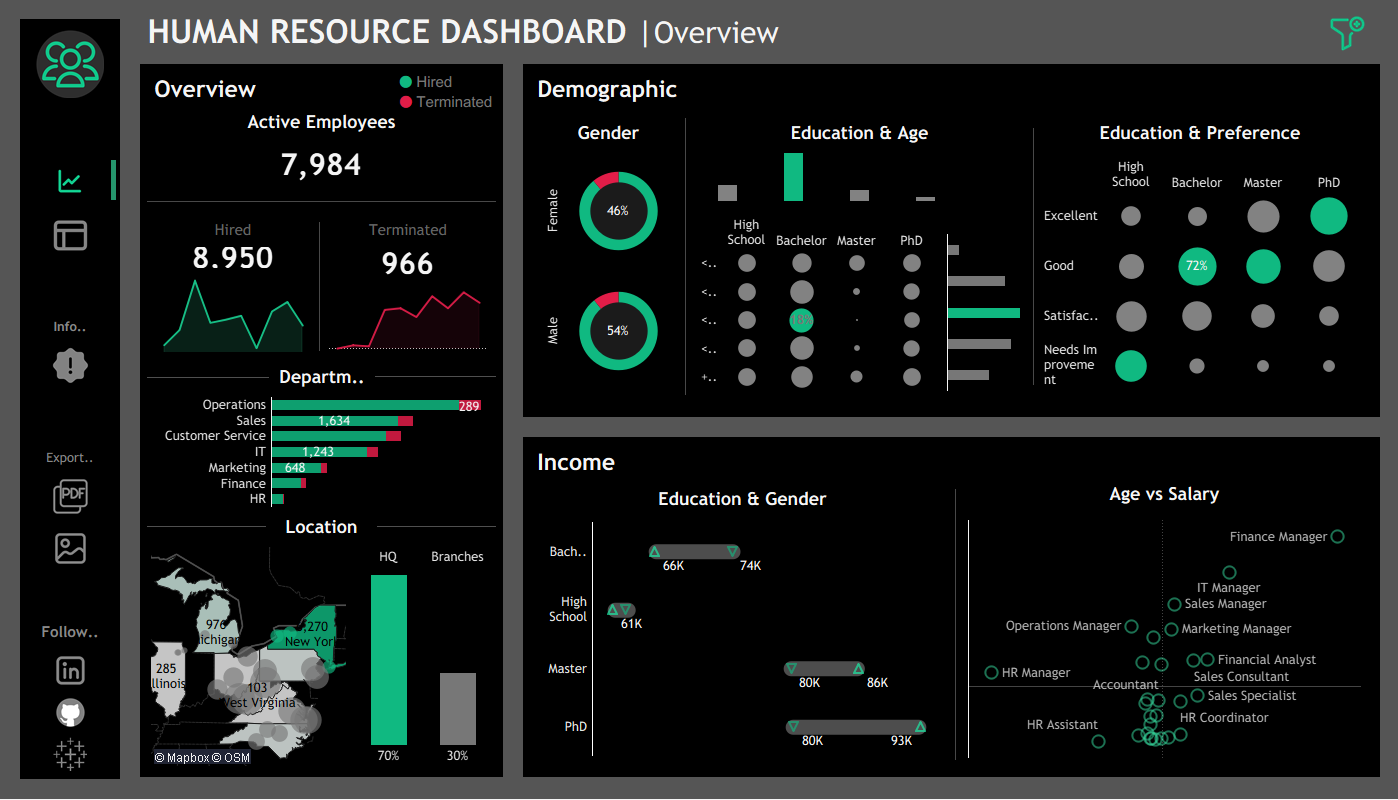

The dashboard page shown, as its layout file describes it:
{"tool":"tableau","page":{"name":"Hr dashboard","canvas":[1400,800],"ordinal":0},"visuals":[{"type":"blank","box":[138,0,1246,240]},{"type":"text","box":[140,0,666,65]},{"type":"blank","box":[806,0,574,65]},{"type":"filter","title":"gender wise average salary with education","param":"[federated.0e98jjm1nf74hf10xqbcz1m3fuau].[none:Gender:nk]","box":[731,10,148,49]},{"type":"filter","title":"gender wise average salary with education","param":"[federated.0e98jjm1nf74hf10xqbcz1m3fuau].[none:Calculation_797700122308091904:nk","box":[879,10,148,49]},{"type":"filter","title":"gender wise average salary with education","param":"[federated.0e98jjm1nf74hf10xqbcz1m3fuau].[none:Calculation_324540685735133186:nk","box":[1027,10,148,49]},{"type":"filter","title":"gender wise average salary with education","param":"[federated.0e98jjm1nf74hf10xqbcz1m3fuau].[yr:Hiredate:ok]","box":[1175,10,147,49]},{"type":"dashboard-object","box":[1321,10,50,50]},{"type":"image","param":"Image/hr icon 2.png","box":[24,24,92,82]},{"type":"text","box":[147,72,349,31]},{"type":"text","box":[530,72,843,31]},{"type":"text","box":[396,74,100,41]},{"type":"text","box":[147,103,349,32]},{"type":"blank","box":[24,106,92,55]},{"type":"text","box":[537,115,143,26]},{"type":"blank","box":[685,115,1,277]},{"type":"text","box":[691,115,337,26]},{"type":"blank","box":[1033,115,1,277]},{"type":"text","box":[1034,115,332,26]},{"type":"worksheet","title":"Ban of Active","mark":"Automatic","box":[147,135,349,53]},{"type":"worksheet","title":"gender wise count","mark":"Circle","rows":["Gender"],"cols":["Calculation_324540685763403780","Calculation_324540685763403780"],"box":[537,141,143,251]},{"type":"worksheet","title":"education viese count","mark":"Bar","rows":["Calculation_1074108547685941248"],"cols":["Education Level"],"box":[691,141,337,58]},{"type":"worksheet","title":"education wise rating","mark":"Circle","rows":["Performance Rating"],"cols":["Education Level"],"box":[1034,141,332,251]},{"type":"dashboard-object","box":[24,161,87,40]},{"type":"blank","box":[111,161,5,40]},{"type":"blank","box":[147,188,349,21]},{"type":"worksheet","title":"age wise education ","mark":"Circle","rows":["Calculation_324540685767745542"],"cols":["Education Level"],"box":[691,199,252,193]},{"type":"worksheet","title":"age wise grouping","mark":"Bar","rows":["Calculation_324540685767745542"],"cols":["Calculation_1074108547685941248"],"box":[943,199,85,193]},{"type":"blank","box":[24,201,92,15]},{"type":"blank","box":[319,209,1,149]},{"type":"text","box":[152,214,162,22]},{"type":"text","box":[325,214,166,22]},{"type":"dashboard-object","box":[24,216,92,40]},{"type":"worksheet","title":"Ban of hired","mark":"Automatic","box":[152,236,162,29]},{"type":"worksheet","title":"Ban of terminated","mark":"Automatic","box":[325,236,166,41]},{"type":"text","box":[138,240,1246,315]},{"type":"blank","box":[24,256,92,55]},{"type":"worksheet","title":"total hire by date","mark":"Automatic","rows":["Calculation_1074108547685941248","Calculation_1074108547685941248"],"cols":["Hiredate"],"box":[152,265,162,88]},{"type":"worksheet","title":"total terminated by date","mark":"Automatic","rows":["Calculation_1074108547687088130","Calculation_1074108547687088130"],"cols":["Termdate"],"box":[325,277,166,76]},{"type":"text","box":[24,311,92,34]},{"type":"dashboard-object","box":[24,345,92,42]},{"type":"blank","box":[147,358,122,32]},{"type":"text","box":[269,358,106,32]},{"type":"blank","box":[375,358,121,32]},{"type":"blank","box":[24,387,92,55]},{"type":"worksheet","title":"employee by department","mark":"Bar","rows":["Department"],"cols":["Calculation_1074108547685941248"],"box":[147,390,349,122]},{"type":"text","box":[24,442,92,34]},{"type":"text","box":[530,445,843,31]},{"type":"dashboard-object","box":[24,476,92,42]},{"type":"blank","box":[955,476,1,291]},{"type":"text","box":[956,476,417,26]},{"type":"text","box":[535,481,415,26]},{"type":"worksheet","title":"age vs salary","mark":"Shape","rows":["Salary"],"cols":["Calculation_324540685766361093"],"box":[956,502,417,265]},{"type":"worksheet","title":"gender wise average salary with education","mark":"Line","rows":["Education Level"],"cols":["Salary","Salary"],"box":[535,507,415,255]},{"type":"blank","box":[147,512,120.3,32]},{"type":"text","box":[267.3,512,108.3,32]},{"type":"blank","box":[375.7,512,120.3,32]},{"type":"blank","box":[24,518,92,10]},{"type":"dashboard-object","box":[24,528,92,42]},{"type":"worksheet","title":"employee count by state and city","mark":"Automatic","box":[147,544,203,227]},{"type":"worksheet","title":"total employee by department","mark":"Bar","rows":["Calculation_1074108547685941248"],"cols":["Calculation_324540685735133186","Calculation1"],"box":[350,544,146,227]},{"type":"blank","box":[138,555,1246,240]},{"type":"blank","box":[24,570,92,45]},{"type":"text","box":[24,615,92,35]},{"type":"image","param":"Image/linkedin-svgrepo-com.png","box":[24,650,92,42]},{"type":"image","param":"Image/github-svgrepo-com.png","box":[24,692,92,42]},{"type":"image","param":"Image/tableau-svgrepo-com.png","box":[24,734,92,42]}]}

Visuals, with their boxes on the page's 1400x800 design canvas (x1, y1, x2, y2). These are canvas units, not pixel positions in the 1398x800 screenshot, which may show the page scaled, cropped or inside an application window:
blank: <bbox>138, 0, 1384, 240</bbox>
text: <bbox>140, 0, 806, 65</bbox>
blank: <bbox>806, 0, 1380, 65</bbox>
"gender wise average salary with education" filter: <bbox>731, 10, 879, 59</bbox>
"gender wise average salary with education" filter: <bbox>879, 10, 1027, 59</bbox>
"gender wise average salary with education" filter: <bbox>1027, 10, 1175, 59</bbox>
"gender wise average salary with education" filter: <bbox>1175, 10, 1322, 59</bbox>
dashboard-object: <bbox>1321, 10, 1371, 60</bbox>
image: <bbox>24, 24, 116, 106</bbox>
text: <bbox>147, 72, 496, 103</bbox>
text: <bbox>530, 72, 1373, 103</bbox>
text: <bbox>396, 74, 496, 115</bbox>
text: <bbox>147, 103, 496, 135</bbox>
blank: <bbox>24, 106, 116, 161</bbox>
text: <bbox>537, 115, 680, 141</bbox>
blank: <bbox>685, 115, 686, 392</bbox>
text: <bbox>691, 115, 1028, 141</bbox>
blank: <bbox>1033, 115, 1034, 392</bbox>
text: <bbox>1034, 115, 1366, 141</bbox>
"Ban of Active" worksheet: <bbox>147, 135, 496, 188</bbox>
"gender wise count" worksheet (Circle marks): <bbox>537, 141, 680, 392</bbox>
"education viese count" worksheet (Bar marks): <bbox>691, 141, 1028, 199</bbox>
"education wise rating" worksheet (Circle marks): <bbox>1034, 141, 1366, 392</bbox>
dashboard-object: <bbox>24, 161, 111, 201</bbox>
blank: <bbox>111, 161, 116, 201</bbox>
blank: <bbox>147, 188, 496, 209</bbox>
"age wise education " worksheet (Circle marks): <bbox>691, 199, 943, 392</bbox>
"age wise grouping" worksheet (Bar marks): <bbox>943, 199, 1028, 392</bbox>
blank: <bbox>24, 201, 116, 216</bbox>
blank: <bbox>319, 209, 320, 358</bbox>
text: <bbox>152, 214, 314, 236</bbox>
text: <bbox>325, 214, 491, 236</bbox>
dashboard-object: <bbox>24, 216, 116, 256</bbox>
"Ban of hired" worksheet: <bbox>152, 236, 314, 265</bbox>
"Ban of terminated" worksheet: <bbox>325, 236, 491, 277</bbox>
text: <bbox>138, 240, 1384, 555</bbox>
blank: <bbox>24, 256, 116, 311</bbox>
"total hire by date" worksheet: <bbox>152, 265, 314, 353</bbox>
"total terminated by date" worksheet: <bbox>325, 277, 491, 353</bbox>
text: <bbox>24, 311, 116, 345</bbox>
dashboard-object: <bbox>24, 345, 116, 387</bbox>
blank: <bbox>147, 358, 269, 390</bbox>
text: <bbox>269, 358, 375, 390</bbox>
blank: <bbox>375, 358, 496, 390</bbox>
blank: <bbox>24, 387, 116, 442</bbox>
"employee by department" worksheet (Bar marks): <bbox>147, 390, 496, 512</bbox>
text: <bbox>24, 442, 116, 476</bbox>
text: <bbox>530, 445, 1373, 476</bbox>
dashboard-object: <bbox>24, 476, 116, 518</bbox>
blank: <bbox>955, 476, 956, 767</bbox>
text: <bbox>956, 476, 1373, 502</bbox>
text: <bbox>535, 481, 950, 507</bbox>
"age vs salary" worksheet (Shape marks): <bbox>956, 502, 1373, 767</bbox>
"gender wise average salary with education" worksheet (Line marks): <bbox>535, 507, 950, 762</bbox>
blank: <bbox>147, 512, 267, 544</bbox>
text: <bbox>267, 512, 376, 544</bbox>
blank: <bbox>376, 512, 496, 544</bbox>
blank: <bbox>24, 518, 116, 528</bbox>
dashboard-object: <bbox>24, 528, 116, 570</bbox>
"employee count by state and city" worksheet: <bbox>147, 544, 350, 771</bbox>
"total employee by department" worksheet (Bar marks): <bbox>350, 544, 496, 771</bbox>
blank: <bbox>138, 555, 1384, 795</bbox>
blank: <bbox>24, 570, 116, 615</bbox>
text: <bbox>24, 615, 116, 650</bbox>
image: <bbox>24, 650, 116, 692</bbox>
image: <bbox>24, 692, 116, 734</bbox>
image: <bbox>24, 734, 116, 776</bbox>
